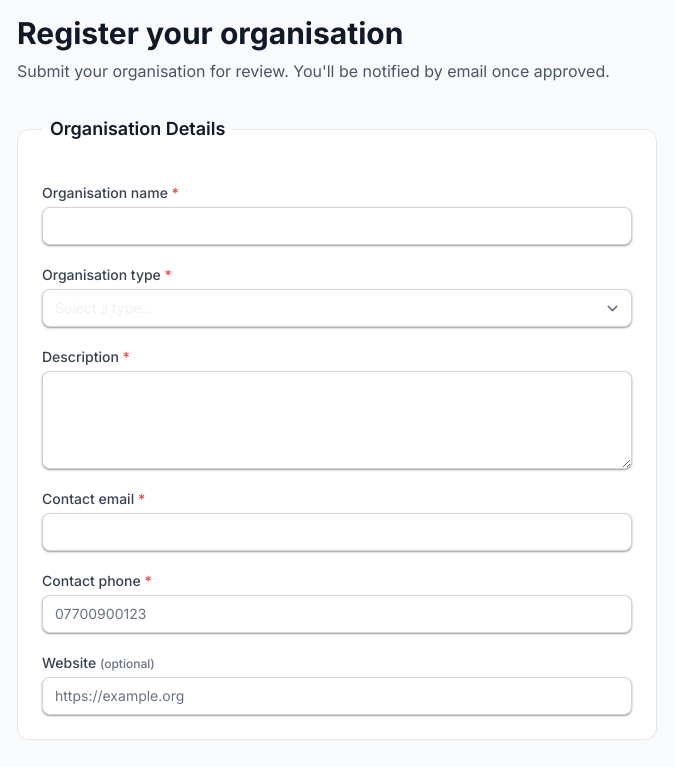
it: <OrgRegisterForm> › shows inline validation error when description < 20 chars on submit attempt
The image size is (675, 767).
Step 1. Type "Too short." into the text box labelled "Description *" → (337,420), box [42, 371, 632, 469]
(page scrolled)
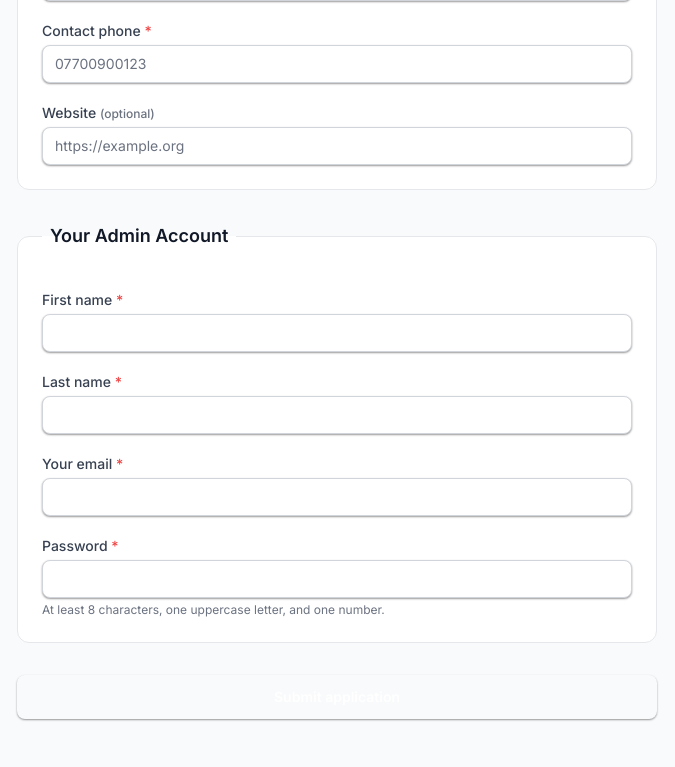
Step 2. Click the button "Submit application" → (337,697), box [17, 675, 657, 719]
(page scrolled)
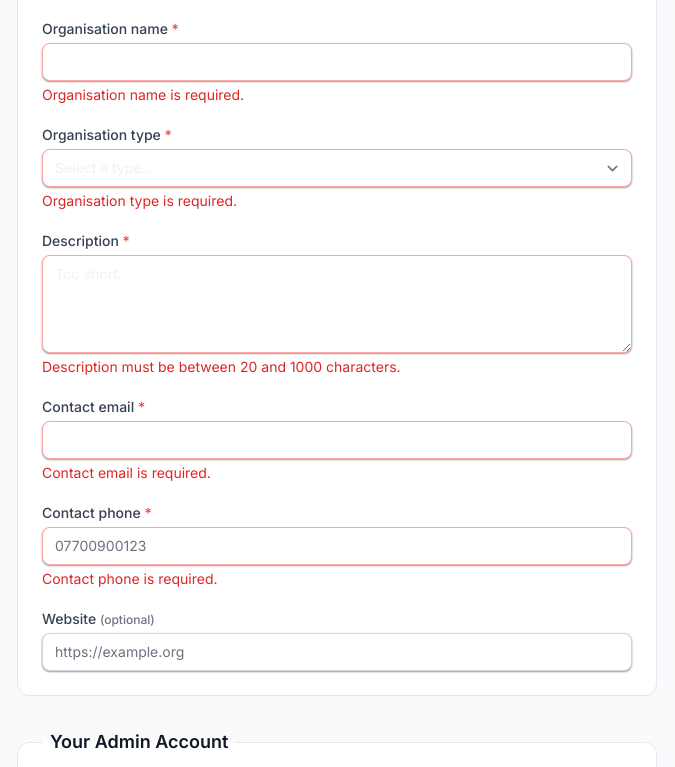
Now the text "Description must be between 20 and 1000 characters." is shown, box [42, 358, 401, 375]
